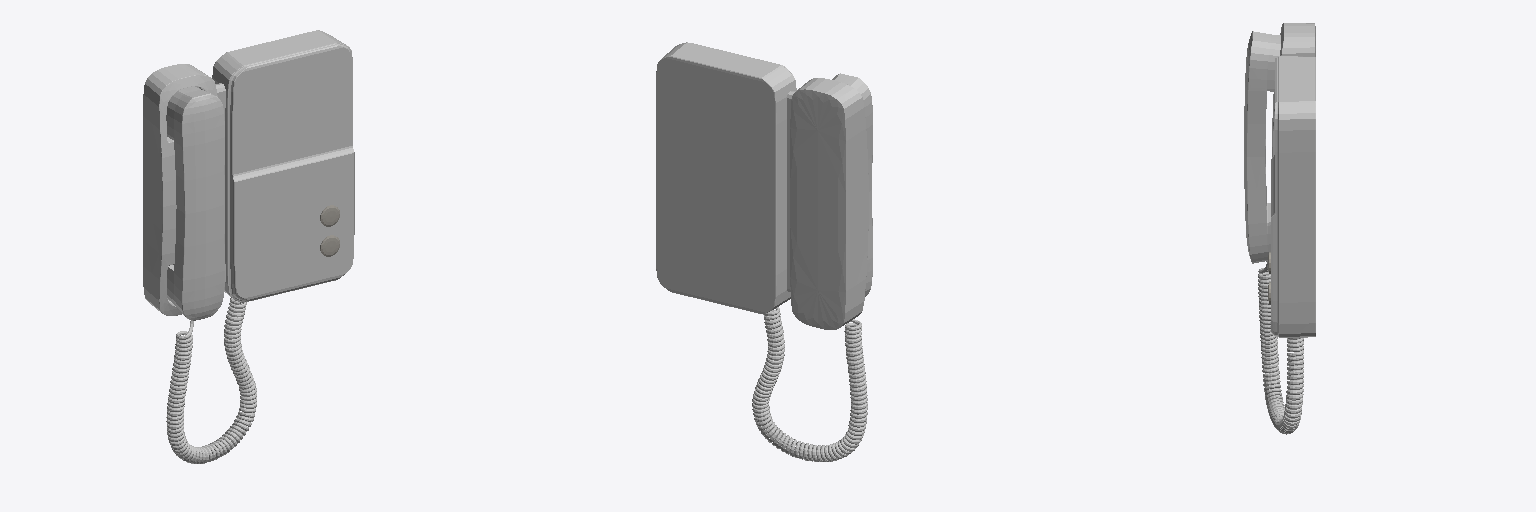
The model's file is intercom_with_screen.obj.
3 renders of one model, left to right at view 1: azimuth 30°, elevation 25°; view 2: azimuth 150°, elevation 25°; view 3: azimuth 270°, elevation 25°, orthographic.
Parts seen in each view (by area): view 1: Cube, Circle.001; view 2: Cube, Circle.001; view 3: Cube, Circle.001.
Part boxes in pixels (bbox=[...]): Cube: bbox=[143, 30, 354, 320]; Circle.001: bbox=[166, 298, 256, 463]; Cube: bbox=[656, 42, 872, 329]; Circle.001: bbox=[752, 307, 867, 461]; Cube: bbox=[1244, 23, 1315, 337]; Circle.001: bbox=[1258, 261, 1303, 434].
Size of the model in its own units: 1.91 by 3.63 by 0.6138.